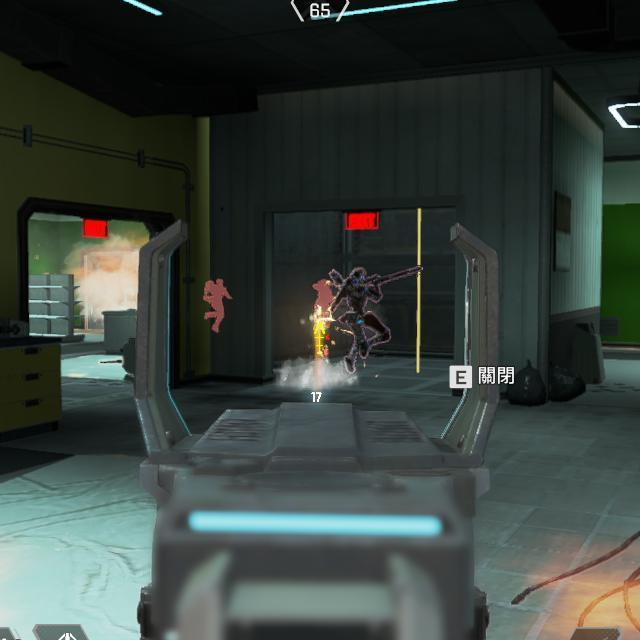avatar: (326, 262, 394, 375)
